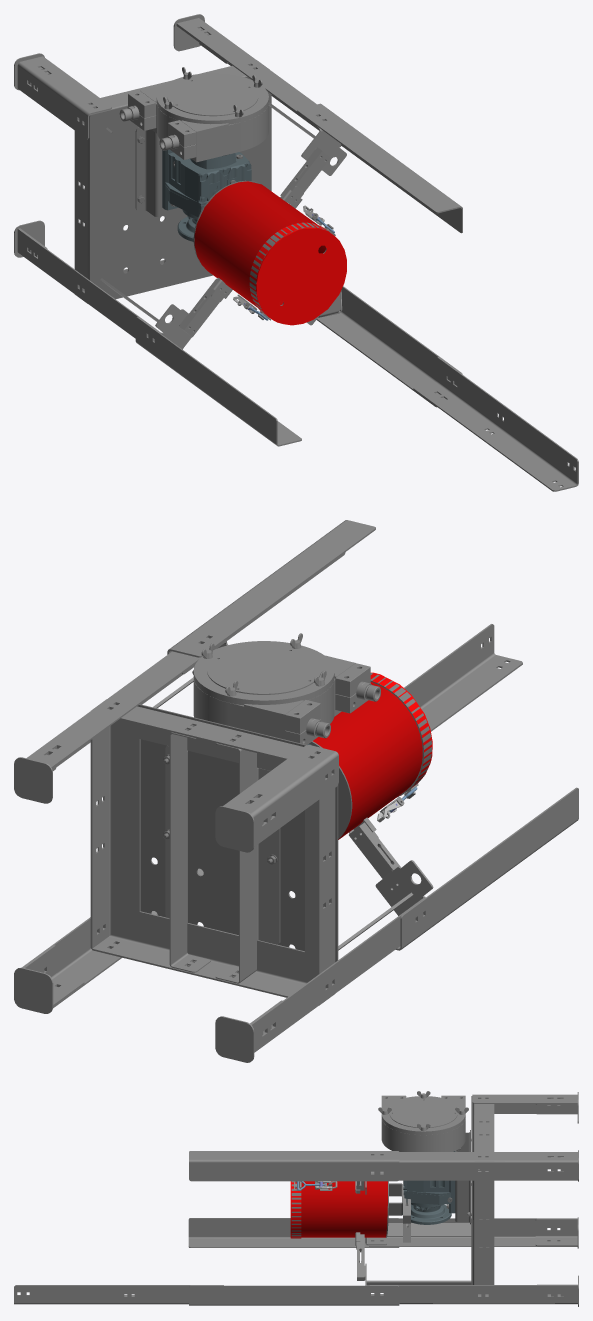
File: dose.glb
The picture shows the model from 3 angles, top to bottom: view 1: azimuth 30°, elevation 25°; view 2: azimuth 150°, elevation 25°; view 3: azimuth 270°, elevation 25°; orthographic projection. The views are drawn at different scales.
Parts seen in each view (by area): view 1: object 30, object 13, object 97, object 83, Рама_22, Рама_21, Рама_20, Рама_11, Рама_10, Рама_5, Рама_23, Рама_14 (+4 smaller); view 2: object 30, object 13, Рама_7, object 83, Рама_6, Рама_20, Рама_21, Рама_3, Рама_4, Рама_5, Рама_11, Рама_8 (+12 smaller); view 3: object 30, Рама_21, Рама_10, object 13, object 83, Рама_22, Рама_20, Рама_9, Рама_7, Рама_11, Рама_23, Сборка фунд_3 (+6 smaller).
Part boxes in pixels (x1=…): object 30: x1=89, y1=73, x2=334, y2=323; object 13: x1=17, y1=56, x2=578, y2=491; object 97: x1=249, y1=222, x2=346, y2=325; object 83: x1=194, y1=181, x2=325, y2=306; Рама_22: x1=316, y1=286, x2=462, y2=407; Рама_21: x1=297, y1=103, x2=462, y2=233; Рама_20: x1=135, y1=317, x2=300, y2=444; Рама_11: x1=17, y1=228, x2=158, y2=341; Рама_10: x1=176, y1=18, x2=325, y2=130; Рама_5: x1=74, y1=118, x2=111, y2=303; Рама_23: x1=136, y1=319, x2=301, y2=446; Рама_14: x1=301, y1=120, x2=346, y2=175; object 30: x1=137, y1=641, x2=431, y2=961; object 13: x1=223, y1=624, x2=522, y2=846; Рама_7: x1=90, y1=719, x2=140, y2=948; object 83: x1=313, y1=682, x2=422, y2=839; Рама_6: x1=92, y1=911, x2=317, y2=997; Рама_20: x1=395, y1=788, x2=578, y2=950; Рама_21: x1=167, y1=520, x2=375, y2=657; Рама_3: x1=215, y1=736, x2=280, y2=983; Рама_4: x1=165, y1=725, x2=210, y2=972; Рама_5: x1=305, y1=770, x2=335, y2=1005; Рама_11: x1=251, y1=897, x2=425, y2=1052; Рама_8: x1=91, y1=699, x2=319, y2=770; object 30: x1=291, y1=1096, x2=472, y2=1284; Рама_21: x1=189, y1=1151, x2=399, y2=1181; Рама_10: x1=371, y1=1152, x2=577, y2=1180; object 13: x1=14, y1=1094, x2=577, y2=1304; object 83: x1=301, y1=1181, x2=387, y2=1237; Рама_22: x1=189, y1=1285, x2=399, y2=1305; Рама_20: x1=189, y1=1218, x2=399, y2=1247; Рама_9: x1=369, y1=1285, x2=577, y2=1304; Рама_7: x1=472, y1=1171, x2=494, y2=1296; Рама_11: x1=369, y1=1218, x2=577, y2=1246; Рама_23: x1=188, y1=1218, x2=393, y2=1247; Сборка фунд_3: x1=535, y1=1218, x2=577, y2=1246.
Size of the model in its own units: 0.47 by 0.5247 by 1.61.
